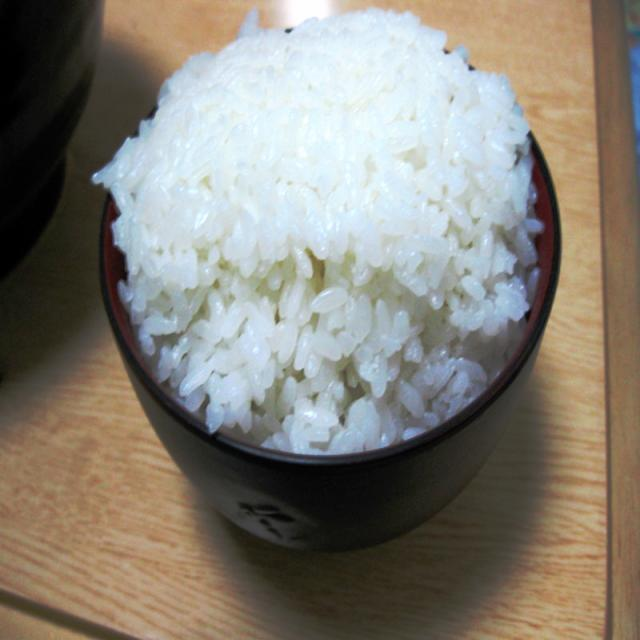rice: (90, 9, 545, 456)
